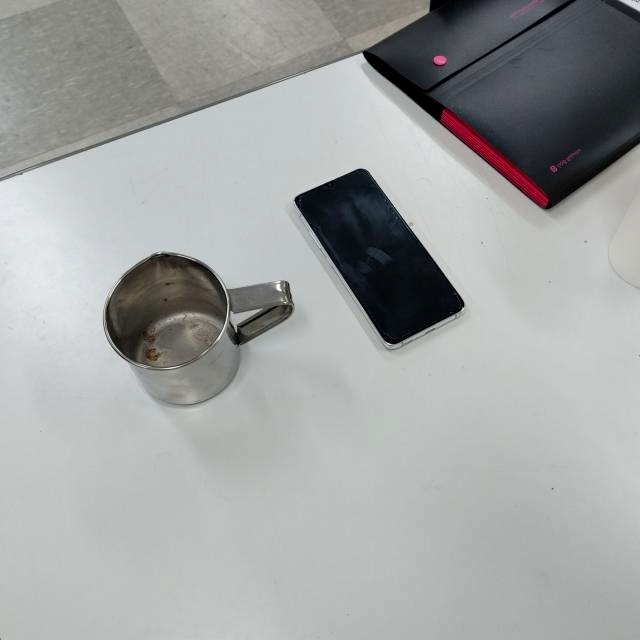cup: (101, 247, 298, 412)
phone: (292, 166, 472, 350)
